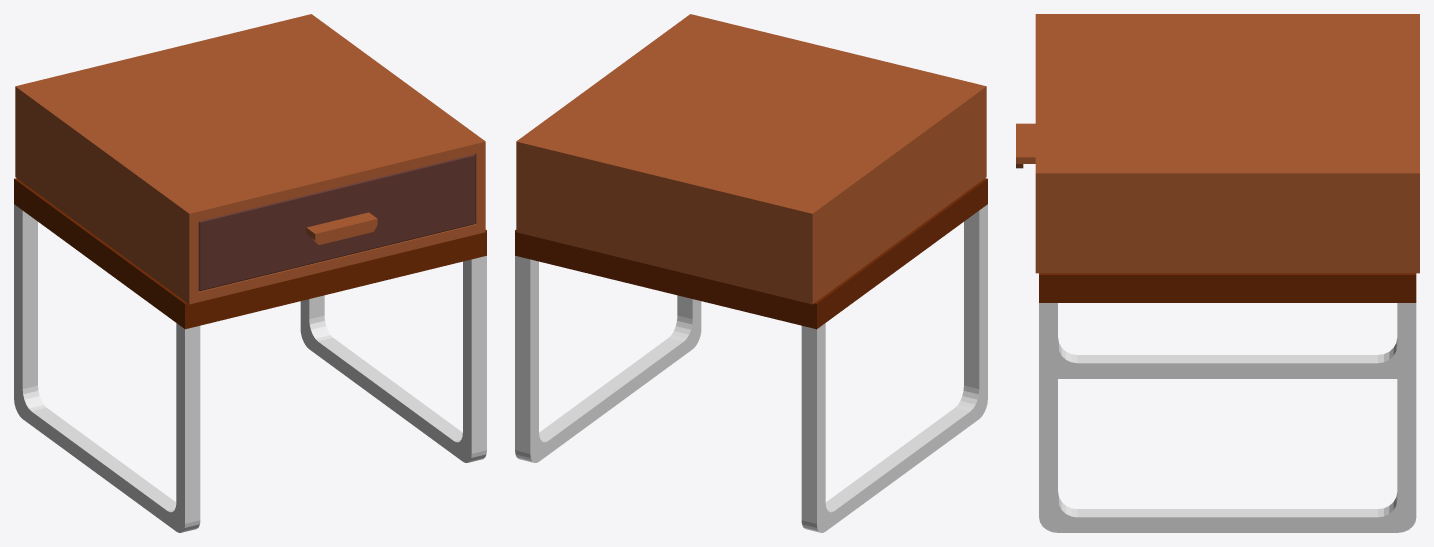
The model's file is Prop_Nightstand_02.fbx.
3 views of the same model, side by side, from view 1: azimuth 30°, elevation 25°; view 2: azimuth 150°, elevation 25°; view 3: azimuth 270°, elevation 25° (orthographic). The views are drawn at different scales.
Visible parts, largest first — view 1: Prop_Nightstand_02; view 2: Prop_Nightstand_02; view 3: Prop_Nightstand_02.
Part boxes in pixels (<box>): Prop_Nightstand_02: <box>14,14,486,532</box>; Prop_Nightstand_02: <box>515,14,987,532</box>; Prop_Nightstand_02: <box>1016,14,1419,532</box>.
Size of the model in its own units: 60.58 by 62.27 by 63.65.
